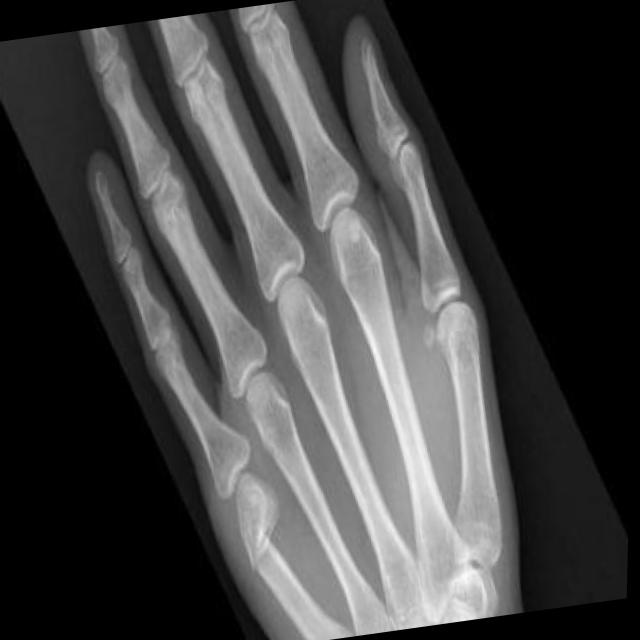fracture: (240, 509, 294, 587)
